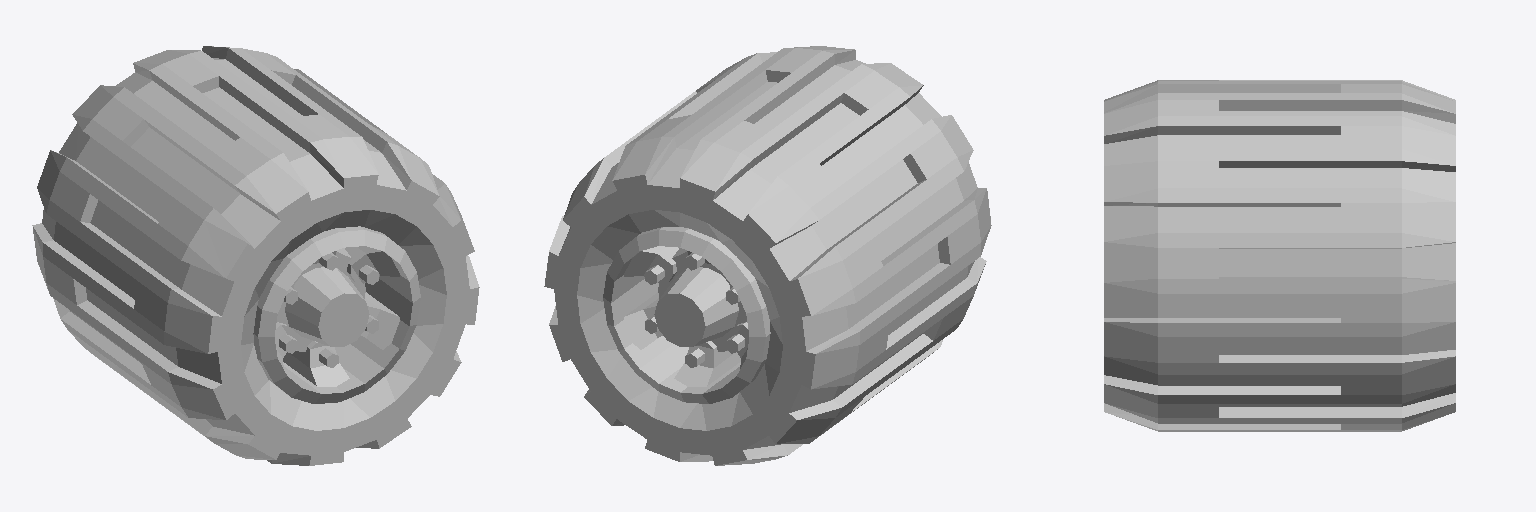
File: obj_interactive_fant_offroad_wheel_6.obj
The picture shows the model from 3 angles: view 1: azimuth 30°, elevation 25°; view 2: azimuth 150°, elevation 25°; view 3: azimuth 270°, elevation 25°; orthographic projection.
Parts seen in each view (by area): view 1: obj_interactive_fant_offroad_wheel_7_Mesh; view 2: obj_interactive_fant_offroad_wheel_7_Mesh; view 3: obj_interactive_fant_offroad_wheel_7_Mesh.
Boxes of the visible parts, x1,y1,x2,y2 form: obj_interactive_fant_offroad_wheel_7_Mesh: [32, 46, 479, 465]; obj_interactive_fant_offroad_wheel_7_Mesh: [544, 46, 991, 465]; obj_interactive_fant_offroad_wheel_7_Mesh: [1104, 80, 1455, 431].
Bounding box in the file's own units: 1 × 1 × 1.